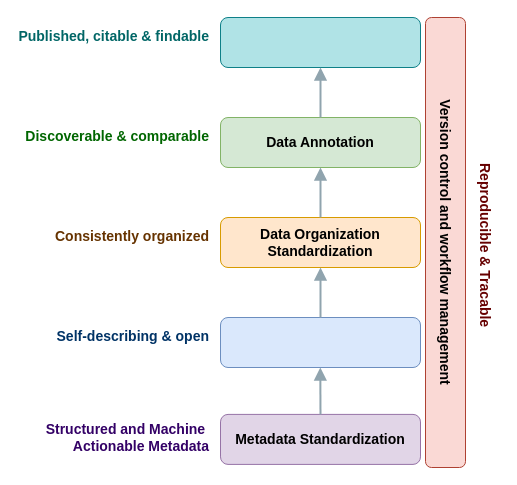
The diagram is 517 pixels wide and 485 high, and some of its shapes have lost their labels. Each missing label, with the box of its shape:
Data Format Standardization: (220, 316, 420, 368)
Data Sharing: (220, 16, 420, 68)
